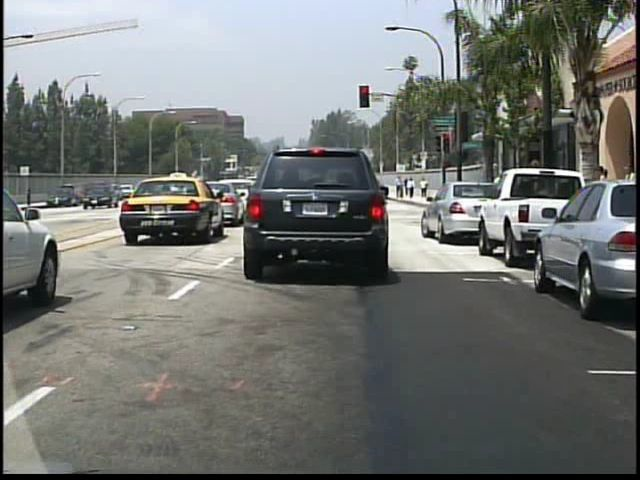person: (590, 163, 614, 236), (420, 177, 430, 200), (397, 175, 406, 199), (408, 176, 416, 200)
